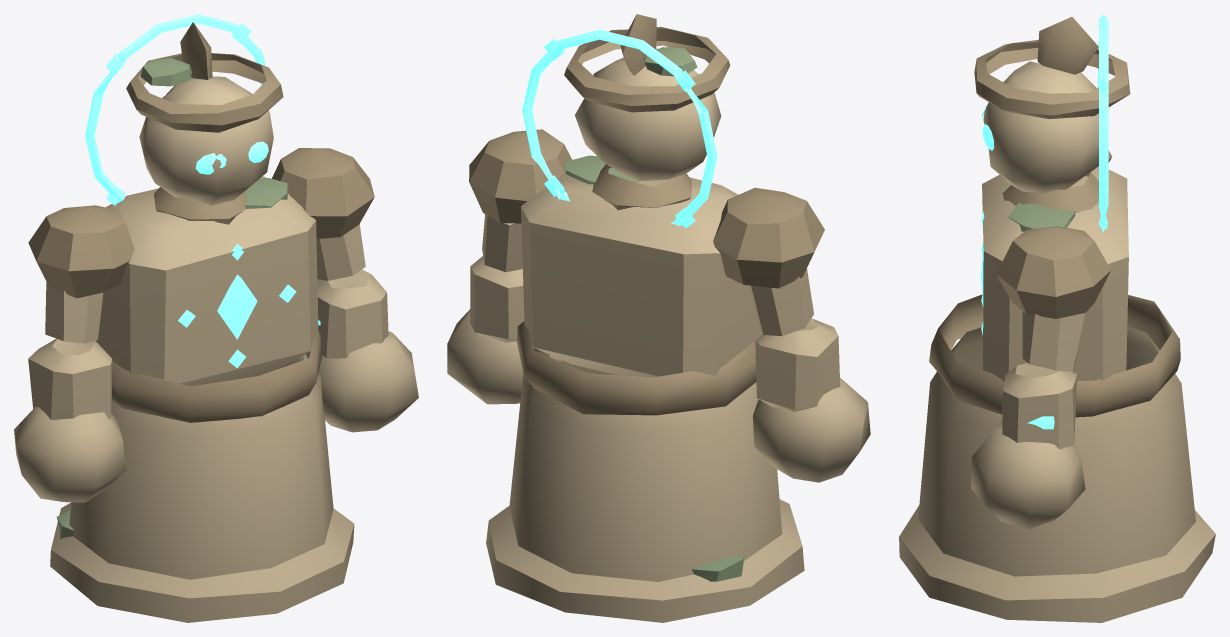
Rendered from guardian-statue.glb.
The picture shows the model from 3 angles, left to right: view 1: azimuth 30°, elevation 25°; view 2: azimuth 150°, elevation 25°; view 3: azimuth 270°, elevation 25°; orthographic projection. The views are drawn at different scales.
Parts seen in each view (by area): view 1: body, arm_r, arm_l, head, glow_halo, glow_sigil, glow_eyes; view 2: body, arm_r, head, arm_l, glow_halo; view 3: body, arm_l, head, glow_halo.
Part boxes in pixels (x1=…): body: x1=50, y1=176, x2=354, y2=622; arm_r: x1=14, y1=205, x2=134, y2=502; arm_l: x1=272, y1=148, x2=418, y2=432; head: x1=126, y1=22, x2=283, y2=205; glow_halo: x1=85, y1=14, x2=268, y2=205; glow_sigil: x1=178, y1=244, x2=296, y2=368; glow_eyes: x1=195, y1=141, x2=268, y2=174; body: x1=486, y1=155, x2=804, y2=622; arm_r: x1=713, y1=187, x2=870, y2=482; head: x1=564, y1=14, x2=730, y2=180; arm_l: x1=447, y1=129, x2=572, y2=404; glow_halo: x1=522, y1=30, x2=717, y2=227; body: x1=899, y1=166, x2=1215, y2=622; arm_l: x1=971, y1=226, x2=1110, y2=528; head: x1=974, y1=17, x2=1130, y2=193; glow_halo: x1=1098, y1=14, x2=1108, y2=232.
Bounding box in the file's own units: 1.94 × 2.5 × 1.33.
